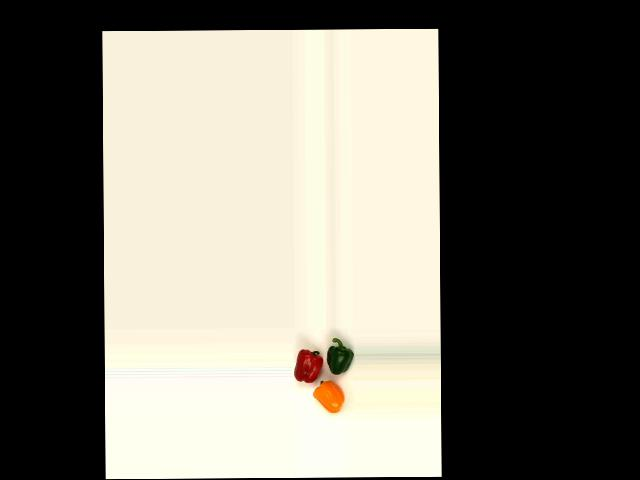bell_pepper: (325, 336, 354, 375)
